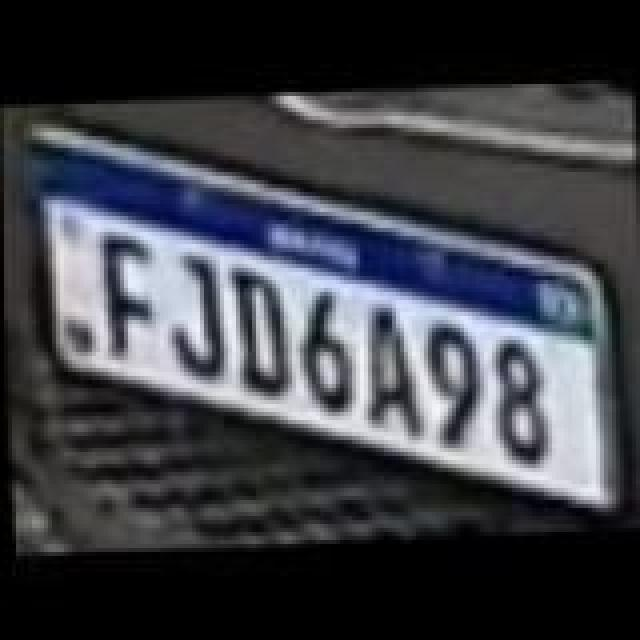6: (290, 286, 358, 414)
8: (486, 336, 550, 468)
9: (422, 324, 486, 452)
A: (360, 302, 432, 442)
D: (226, 268, 294, 404)
F: (96, 234, 160, 366)
J: (162, 250, 230, 382)
